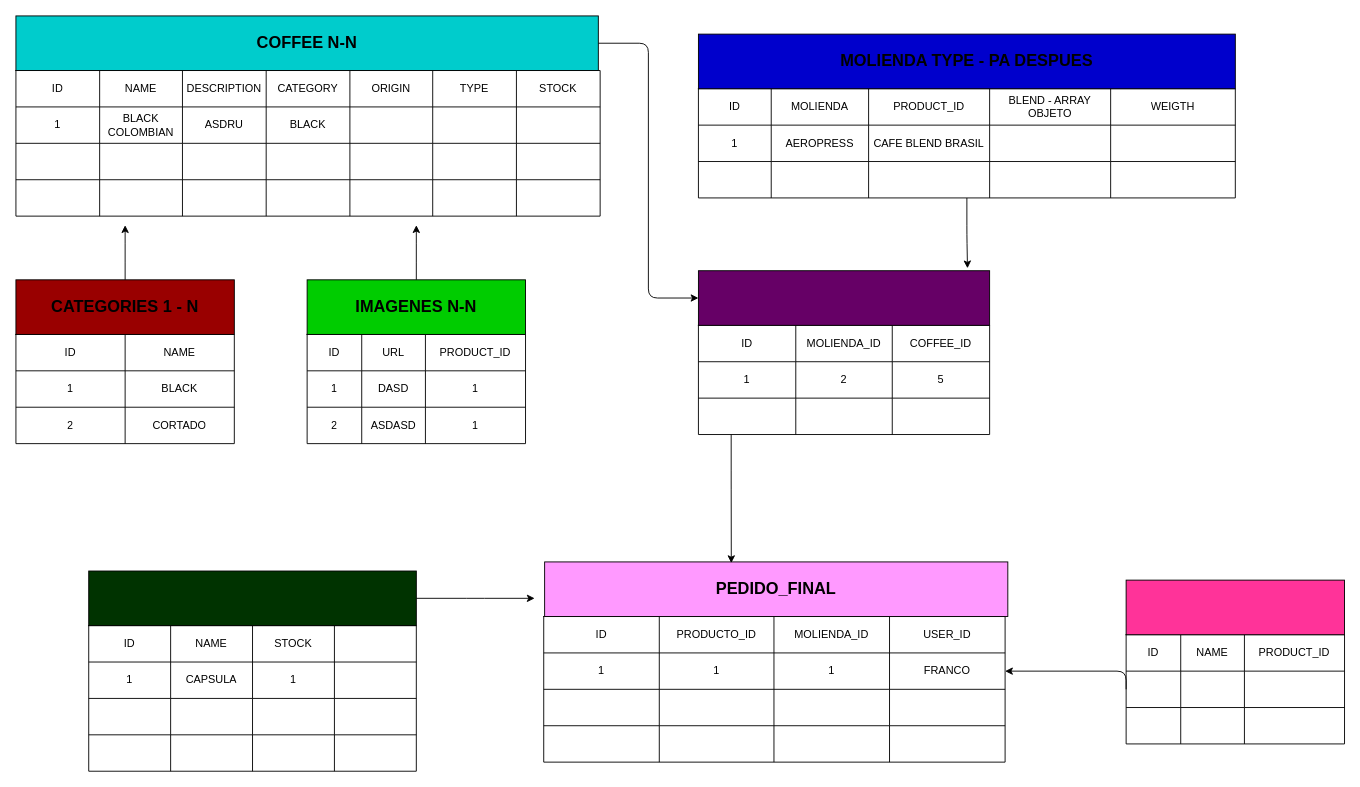
Image size: 1360x787. Some labels were removed from this diagram. The centre of each missing label's shape, as x and y in pixels:
PEDIDO_MOLIENDA: pixel 844 297
PRODUCTOS: pixel 252 598
USERS: pixel 1235 607
